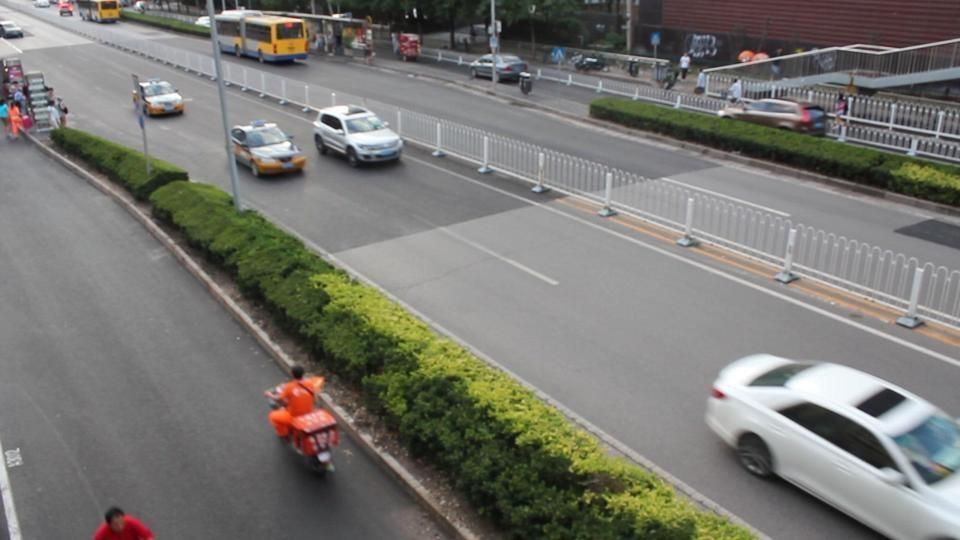car: (704, 353, 960, 538), (226, 115, 401, 174), (310, 103, 404, 167), (229, 119, 309, 178), (718, 97, 827, 136), (131, 78, 190, 118), (468, 53, 532, 83), (571, 54, 605, 71), (0, 21, 24, 40), (54, 0, 76, 17), (34, 0, 52, 9)
